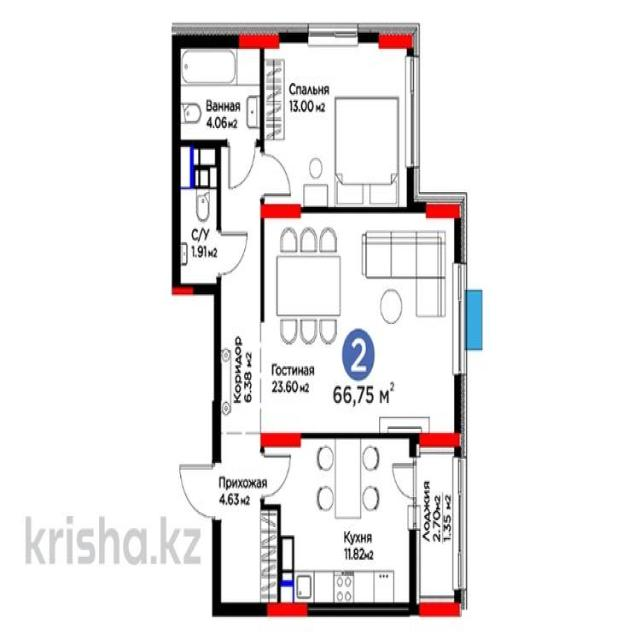bathroom: (176, 36, 262, 138), (175, 188, 219, 288)
hallway: (223, 151, 260, 602)
kitchen: (265, 442, 414, 606), (419, 446, 462, 611)
living_room: (264, 212, 459, 439), (266, 42, 416, 207)
